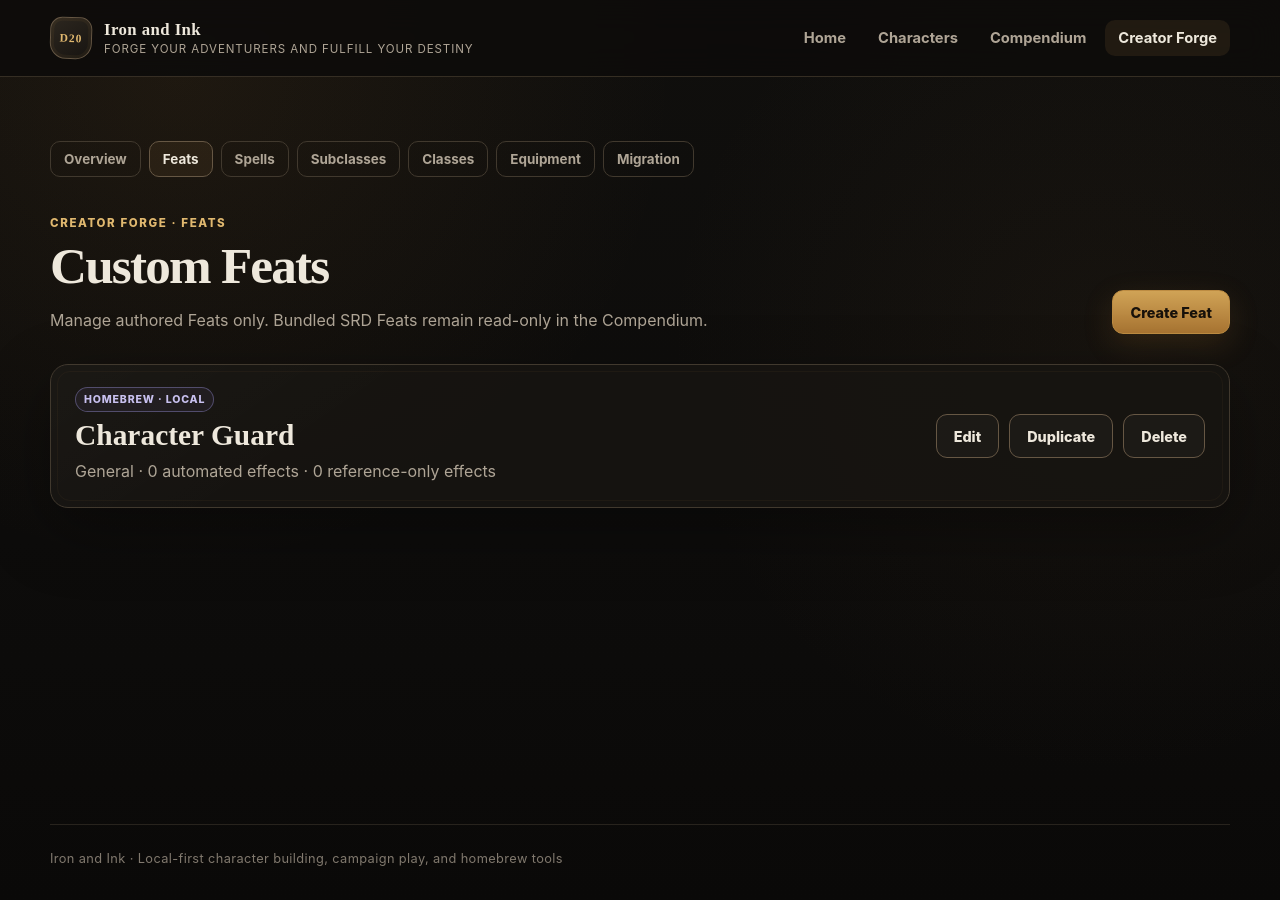
Test: M16-G routed referential-integrity acceptance › protects Character v9 bytes and the live registry when Character-referenced content is deleted
What coordinates should you click on to do the following:
click the button "Delete"
I would click on:
 (1164, 436)
Its box is [1123,414,1205,458].
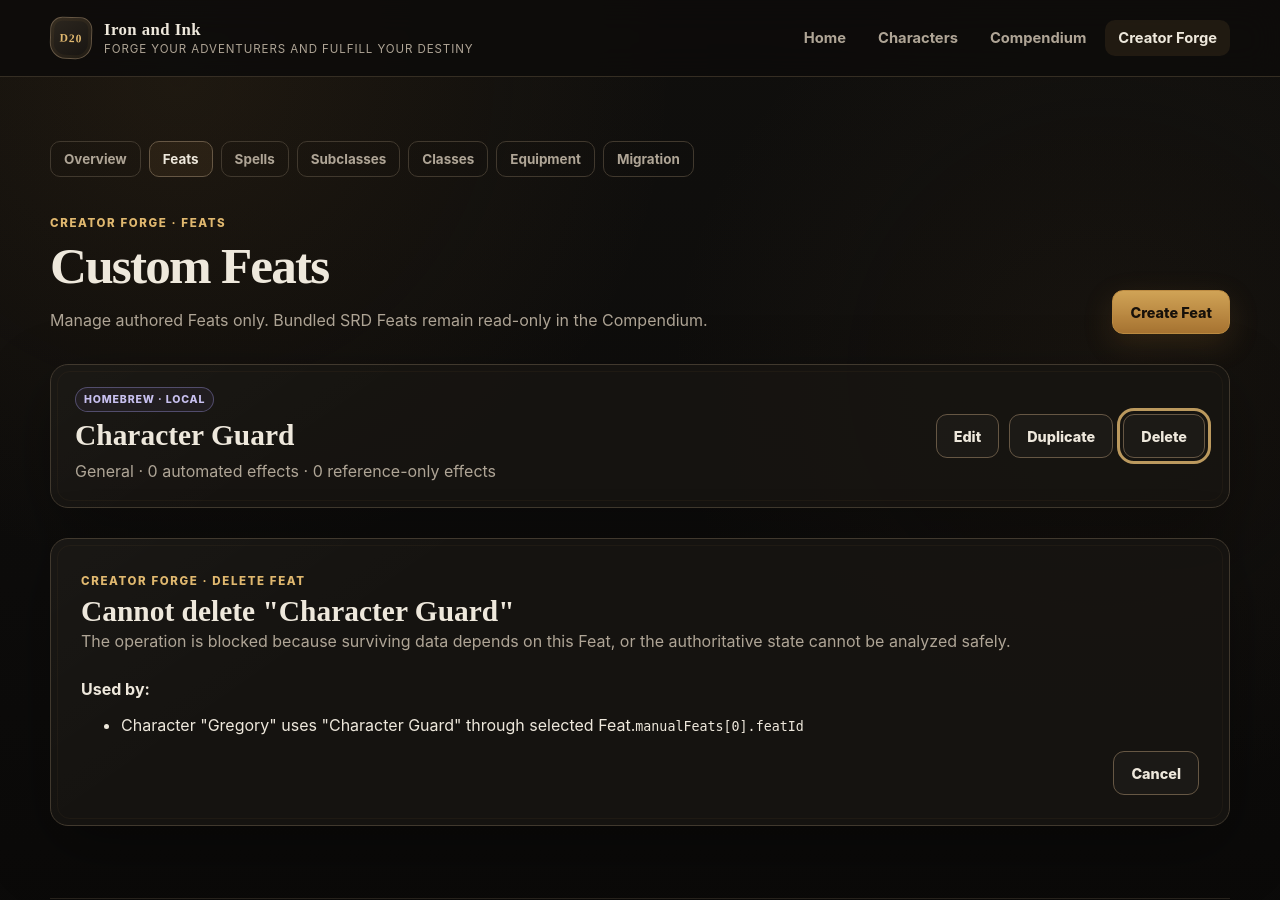
Check: the heading "Cannot delete \"Character Guard\"" is shown, box [81,596,515,628]
Check: the element named "Delete blockers" shows "Gregory", box [121,715,635,735]
